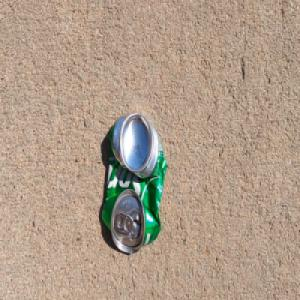SodaCan: (100, 110, 167, 255)
